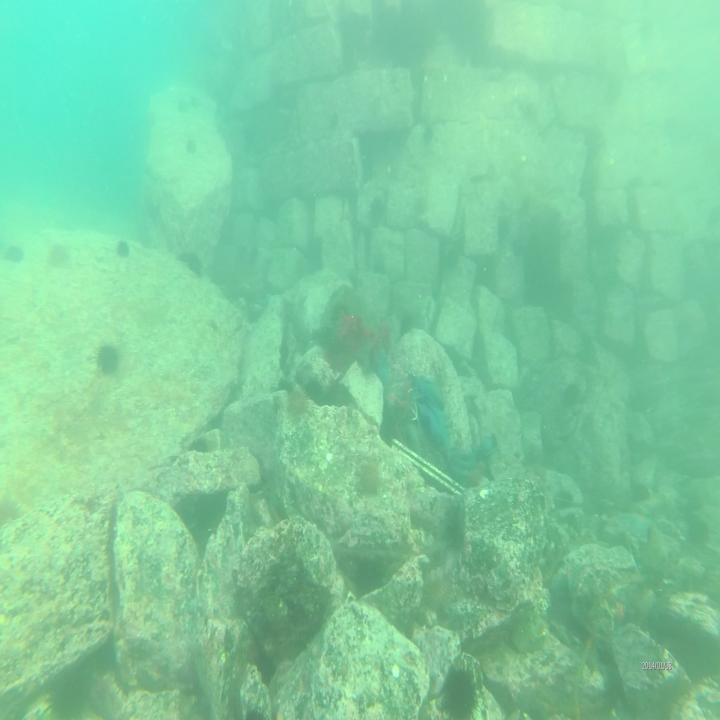echinus: (440, 658, 482, 720), (419, 569, 450, 617), (358, 456, 382, 495), (287, 384, 313, 419), (94, 341, 117, 375), (1, 241, 25, 262), (116, 236, 129, 258)
